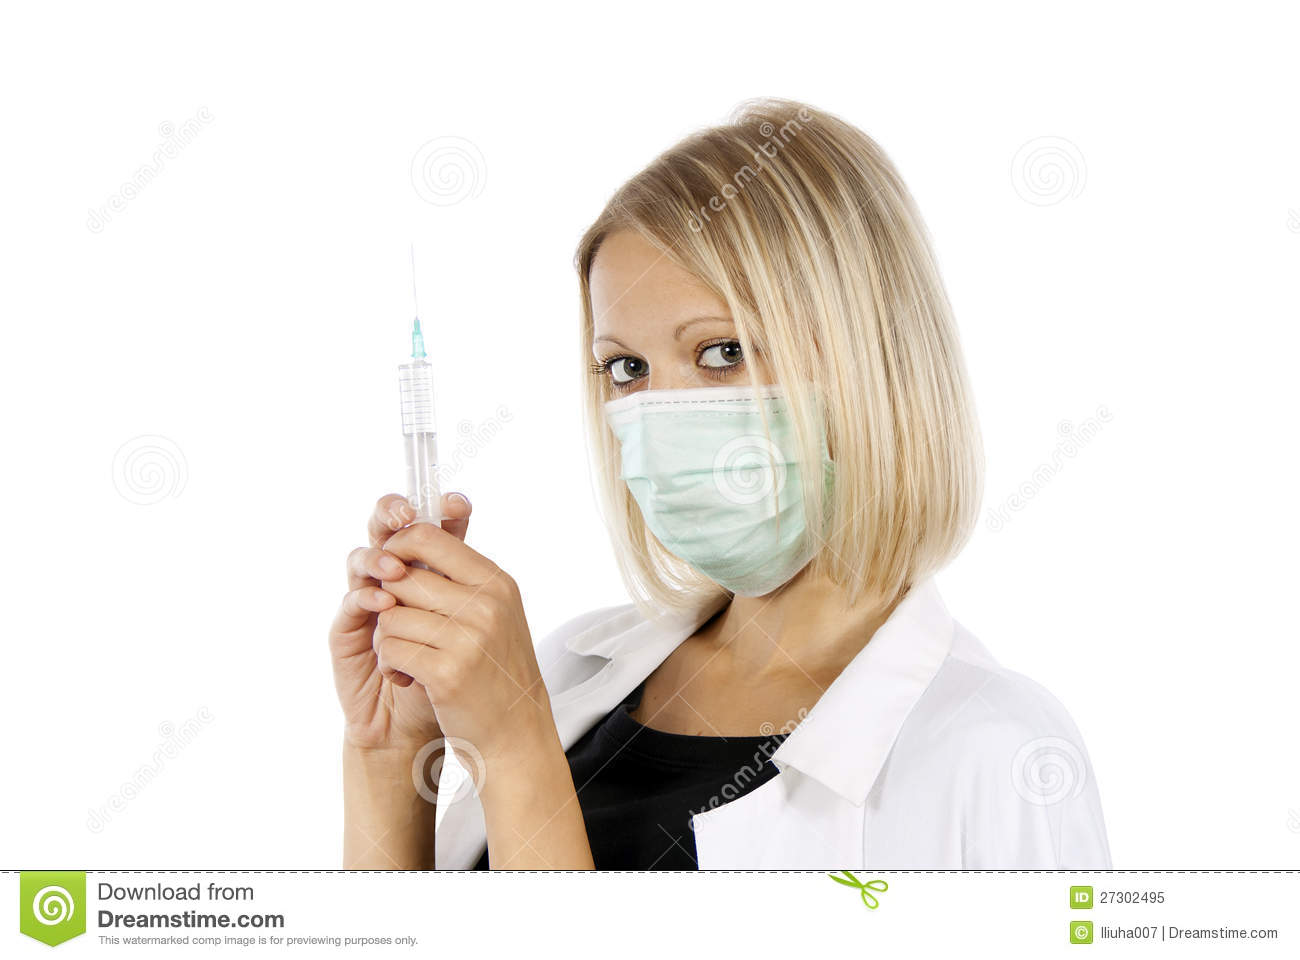mask: (606, 391, 843, 595)
